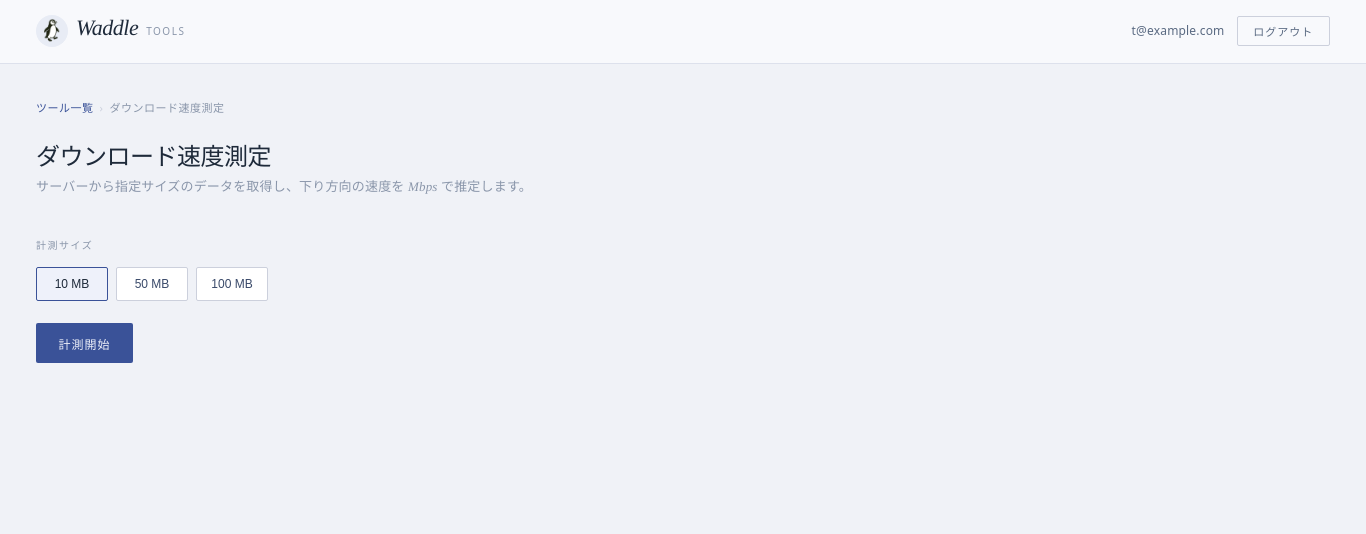
Scenario: DownloadSpeedPage › 計測中止でメッセージを表示する
What coordinates should you click on to do the following:
click the button "計測開始"
I would click on:
 (84, 343)
Its box is 36,323 -> 133,363.
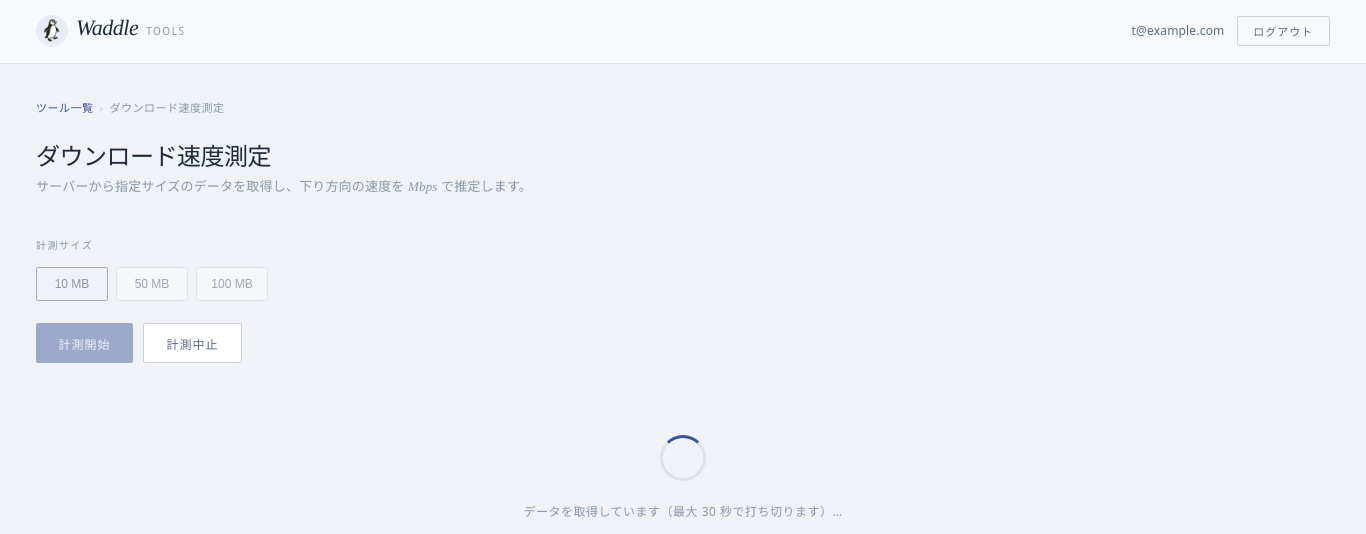
What coordinates should you click on to do the following:
click the button "計測中止"
I would click on:
 (192, 343)
Its box is 143,323 -> 242,363.
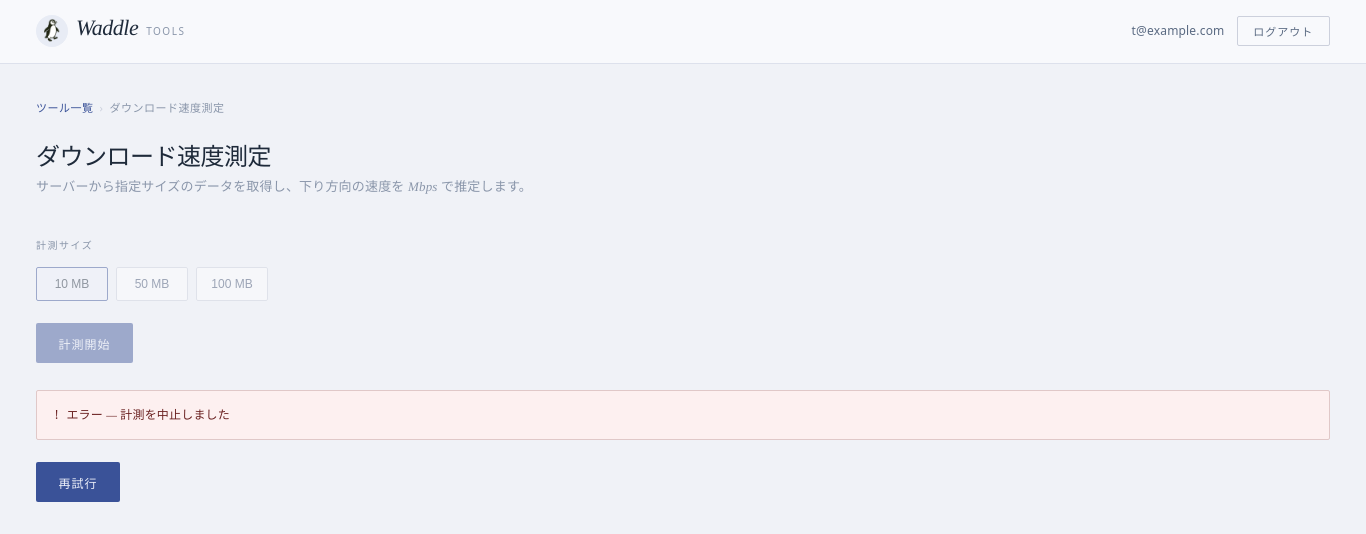
Expected: the text "計測を中止しました" is shown, 120,406 -> 230,423
